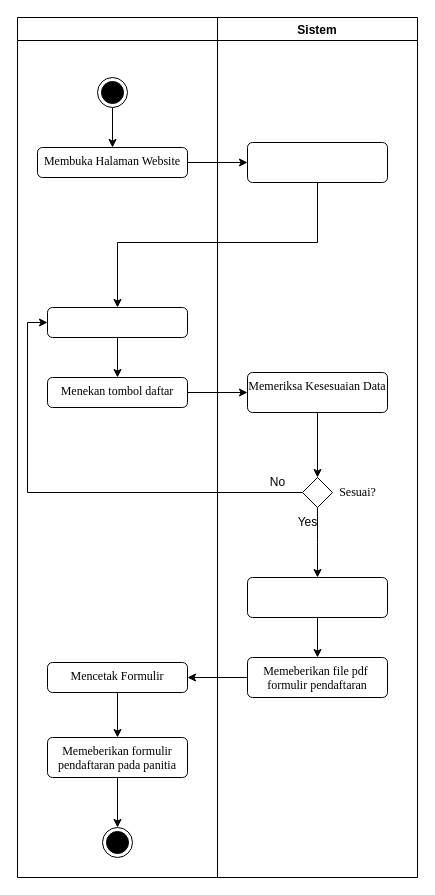
Some shapes in this 435 by 895 pixel diagram are drawn without their labels. Here are the shapes that lost their labels. From the top down, the box of each, then its label:
(246, 142, 388, 182): Menampilkan formulir pendaftaran
(46, 306, 188, 338): Mengisi Formulir
(16, 16, 218, 878): Aktor
(246, 576, 388, 618): Menyimpan data formulir ke database
